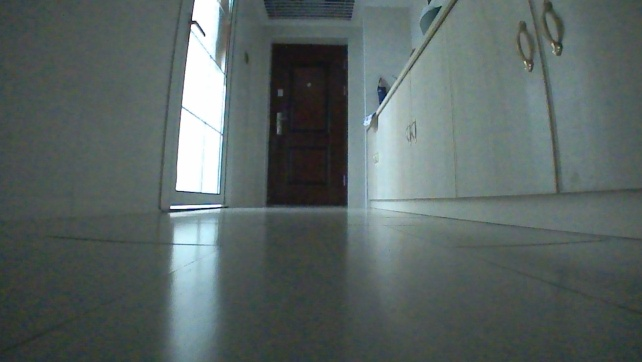cupboard: (362, 0, 641, 243)
door_anno: (155, 0, 242, 213), (262, 37, 349, 208)
